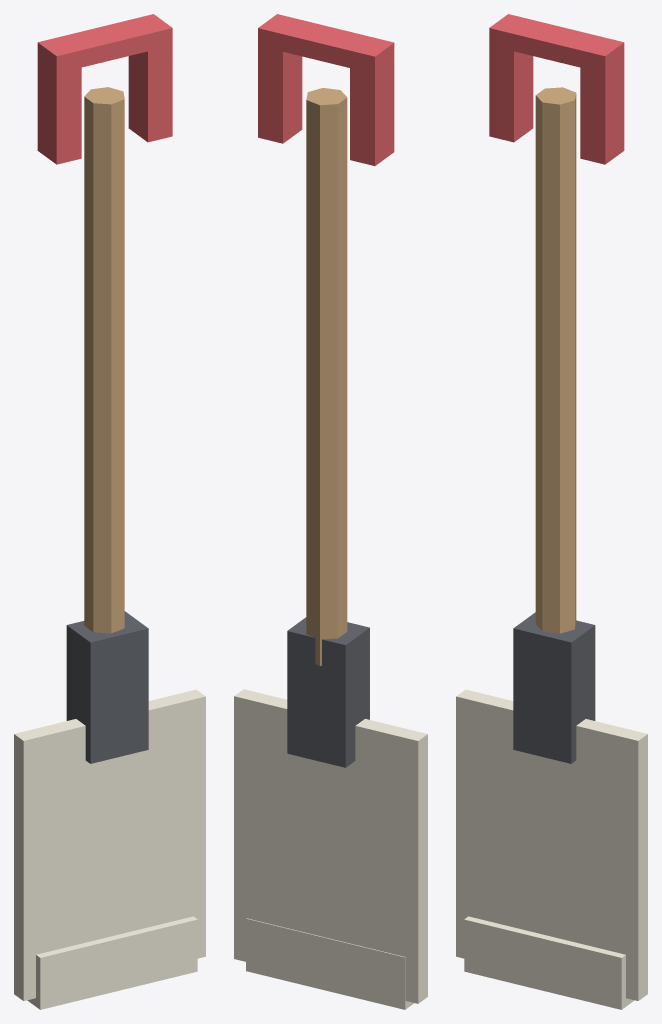
File: lawn-mowing-simulator-kit-garden-spade-ad6d6f3c__27374.glb
3 views of the same model, side by side, from view 1: azimuth 30°, elevation 25°; view 2: azimuth 150°, elevation 25°; view 3: azimuth 330°, elevation 25° (orthographic).
Parts seen in each view (by area): view 1: garden-spade; view 2: garden-spade; view 3: garden-spade.
Boxes of the visible parts, x1=… form: garden-spade: x1=14, y1=14, x2=205, y2=1009; garden-spade: x1=234, y1=14, x2=427, y2=1009; garden-spade: x1=456, y1=14, x2=647, y2=1009.
Size of the model in its own units: 0.22 by 1.09 by 0.0514.
